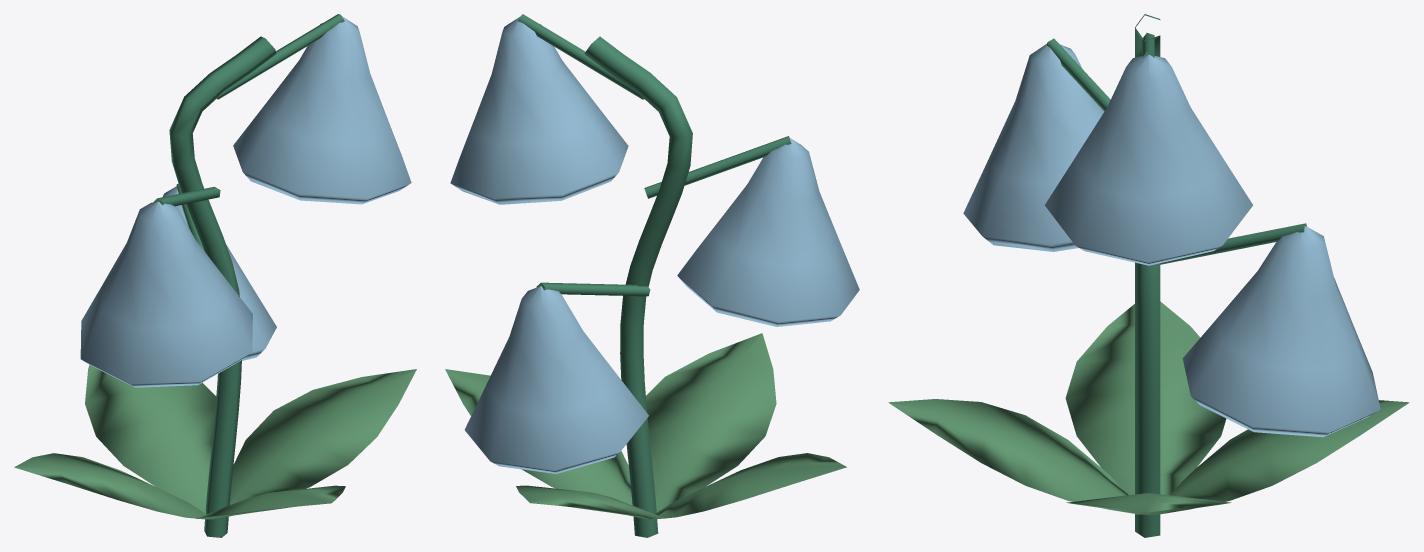
The model's file is bellflower.glb.
3 views of the same model, side by side, from view 1: azimuth 30°, elevation 25°; view 2: azimuth 150°, elevation 25°; view 3: azimuth 270°, elevation 25° (orthographic). The views are drawn at different scales.
Parts seen in each view (by area): view 1: Vesper / bellflower; view 2: Vesper / bellflower; view 3: Vesper / bellflower.
Boxes of the visible parts, x1,y1,x2,y2 form: Vesper / bellflower: [14, 14, 416, 537]; Vesper / bellflower: [445, 14, 859, 537]; Vesper / bellflower: [888, 14, 1409, 537].
Bounding box in the file's own units: 1.5 × 1.74 × 1.5.
